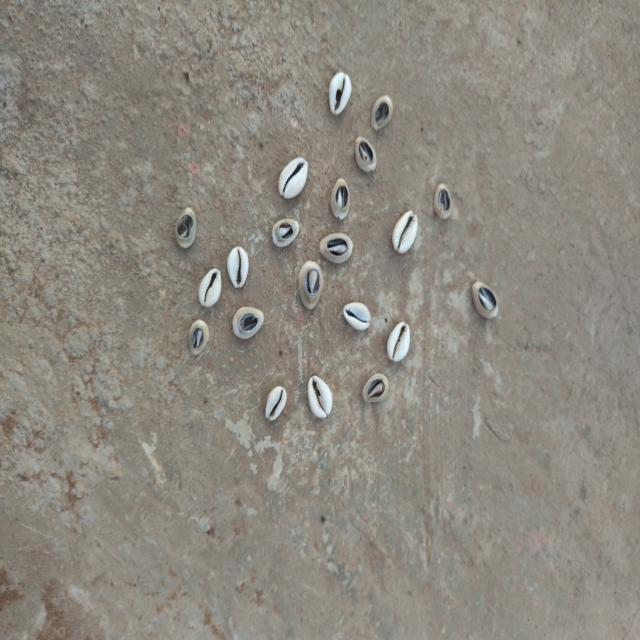facedown: (297, 259, 323, 312), (318, 232, 356, 265), (232, 304, 264, 340), (174, 206, 198, 250), (352, 135, 378, 174), (369, 93, 395, 131), (270, 216, 300, 248), (473, 282, 498, 320), (330, 177, 351, 220), (432, 180, 453, 222), (188, 318, 210, 358), (362, 374, 390, 404)
faceup: (306, 373, 336, 420), (277, 155, 308, 199), (389, 209, 418, 254), (385, 321, 414, 364), (197, 266, 224, 310), (226, 245, 252, 289), (328, 68, 352, 115), (341, 299, 373, 332), (263, 383, 287, 422)
